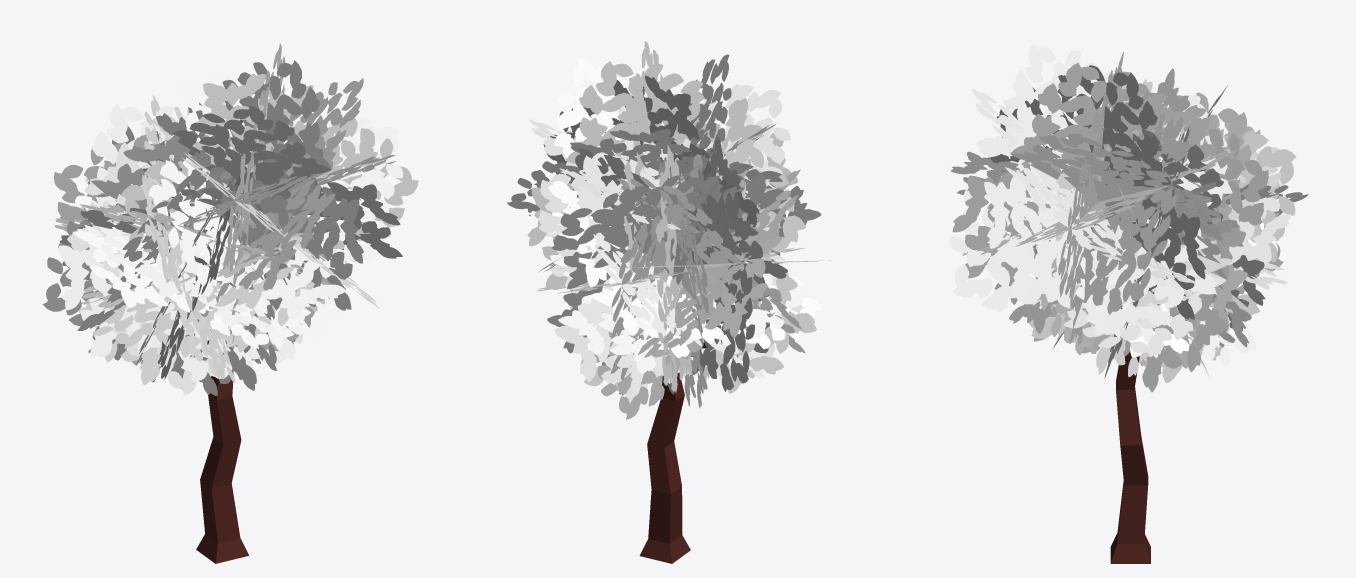
The model's file is Tree_01.fbx.
The picture shows the model from 3 angles, left to right: view 1: azimuth 30°, elevation 25°; view 2: azimuth 150°, elevation 25°; view 3: azimuth 270°, elevation 25°; orthographic projection. The views are drawn at different scales.
Visible parts, largest first — view 1: Tree_01; view 2: Tree_01; view 3: Tree_01.
Boxes of the visible parts, x1,y1,x2,y2 form: Tree_01: (43, 43, 418, 563); Tree_01: (507, 41, 830, 563); Tree_01: (949, 43, 1308, 563).
Size of the model in its own units: 6.95 by 9.37 by 6.84.
